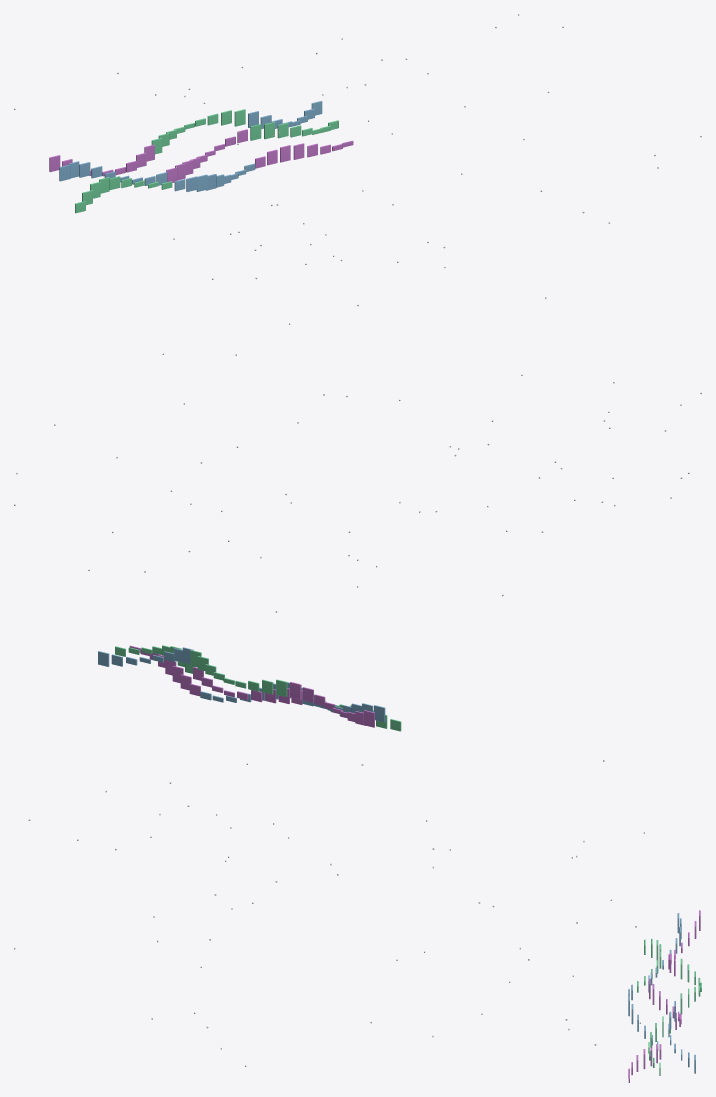
Rendered from region_29.glb.
3 renders of one model, top to bottom at view 1: azimuth 30°, elevation 25°; view 2: azimuth 150°, elevation 25°; view 3: azimuth 270°, elevation 25°, orthographic. The views are drawn at different scales.
Visible parts, largest first — view 1: region_29_aurora; view 2: region_29_aurora; view 3: region_29_aurora.
Boxes of the visible parts, x1,y1,x2,y2 form: region_29_aurora: (49, 101, 353, 213); region_29_aurora: (98, 645, 401, 731); region_29_aurora: (628, 910, 701, 1082).
Bounding box in the file's own units: 79.38 × 22.1 × 85.52.
